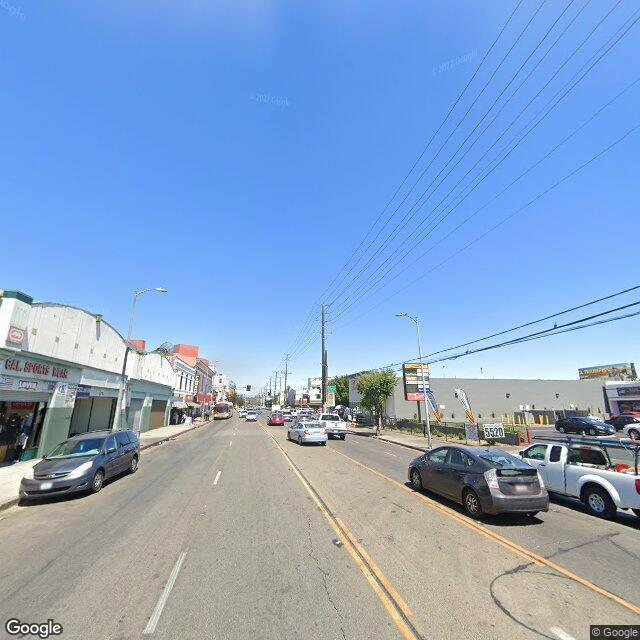crack: (297, 509, 352, 639)
